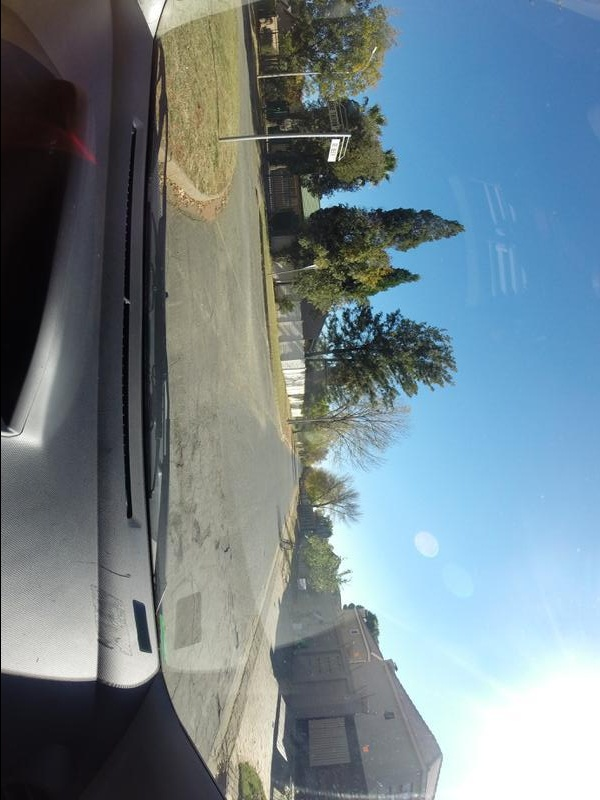pothole: (192, 519, 206, 548), (174, 437, 184, 472), (233, 621, 241, 652), (222, 536, 230, 554), (217, 692, 222, 720)
